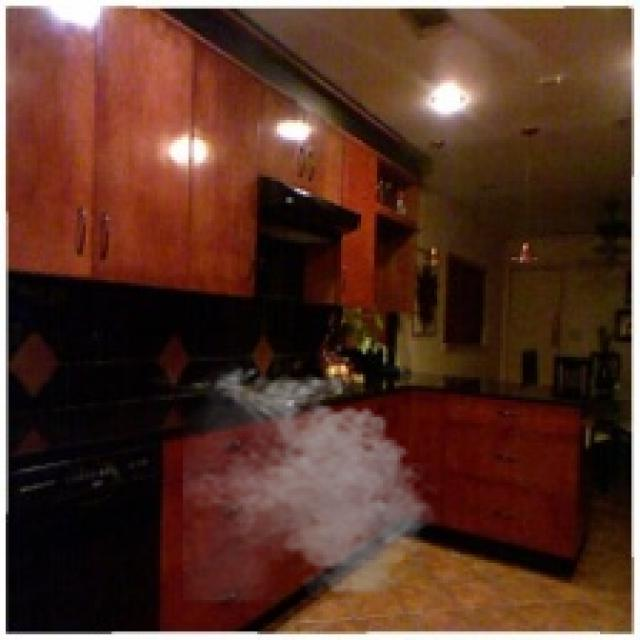smoke: (183, 360, 443, 603)
